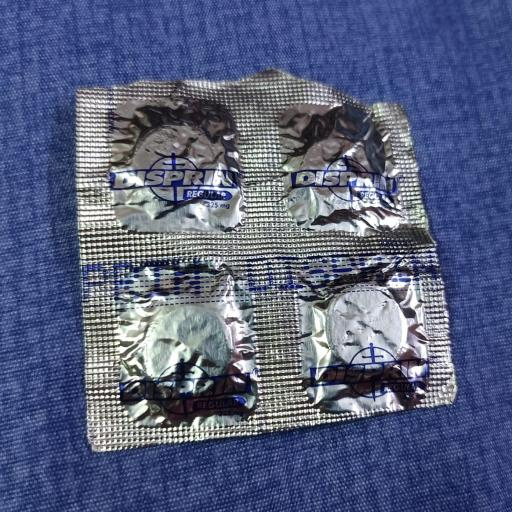disprin: (69, 77, 469, 434)
